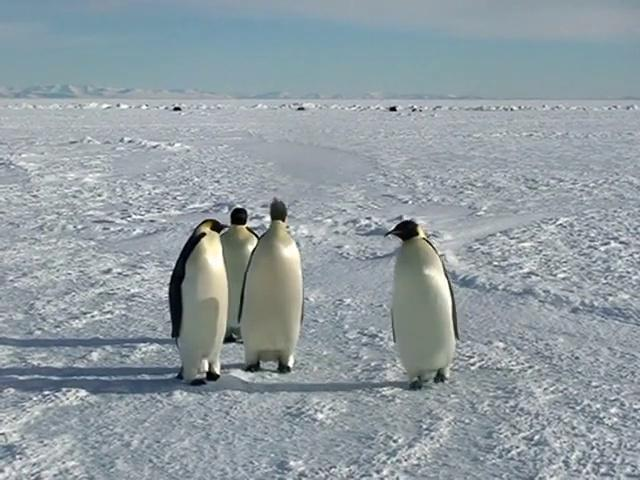animal: (386, 220, 457, 388)
